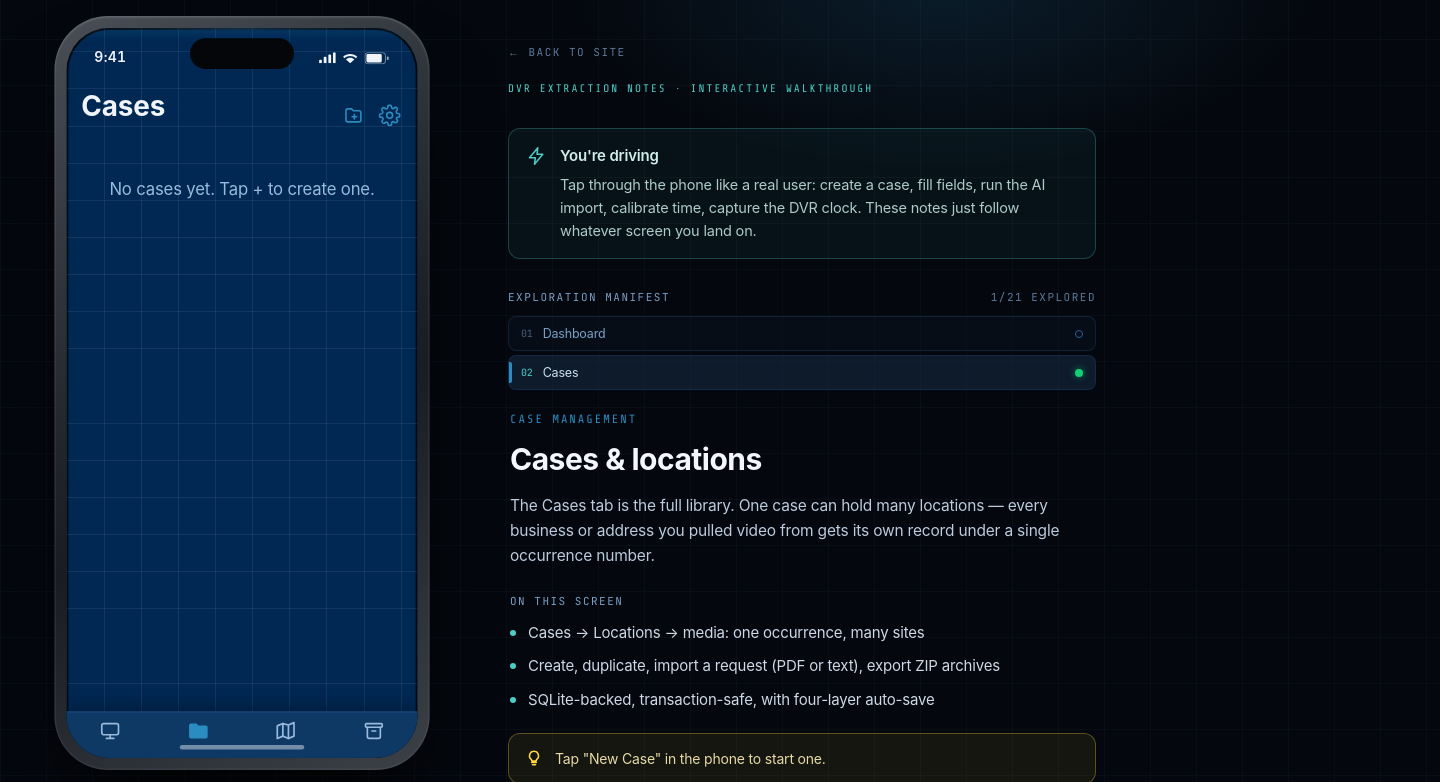
Test case: DemoExperience (sandbox-only boot) › narration follows the screen (Dashboard tab → dashboard narration)
Click the button named "Dashboard". click: (110, 732)
box: [66, 718, 154, 747]
(page scrolled)
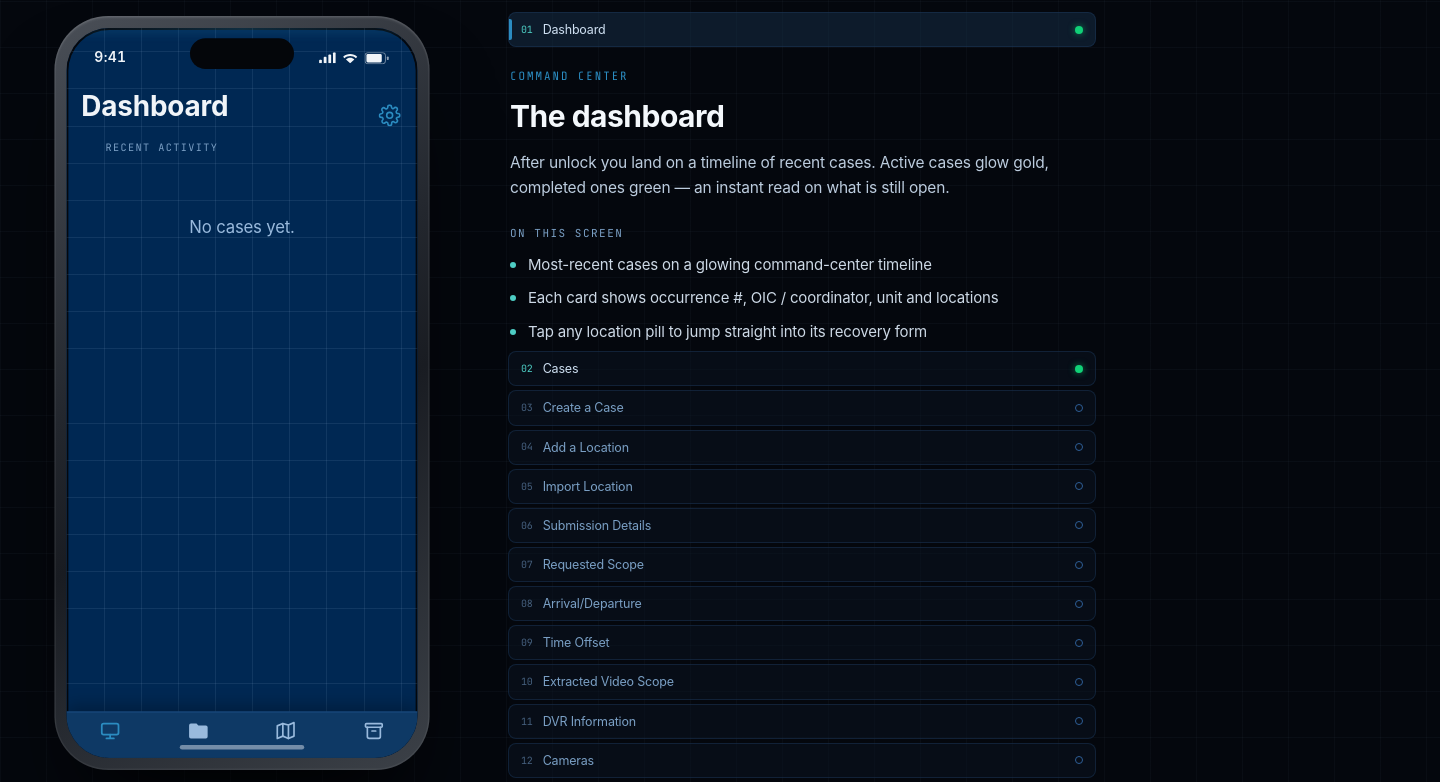
Expected: the heading "The dashboard" is shown, [510, 98, 724, 134]
